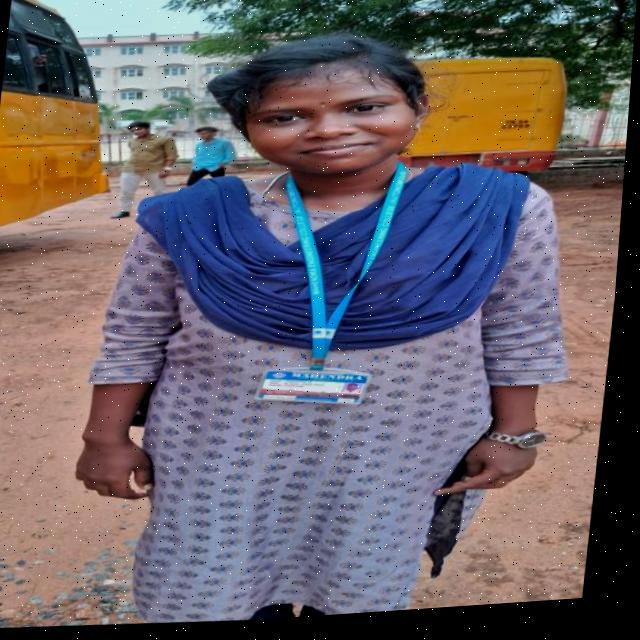id_card: (261, 164, 412, 423)
